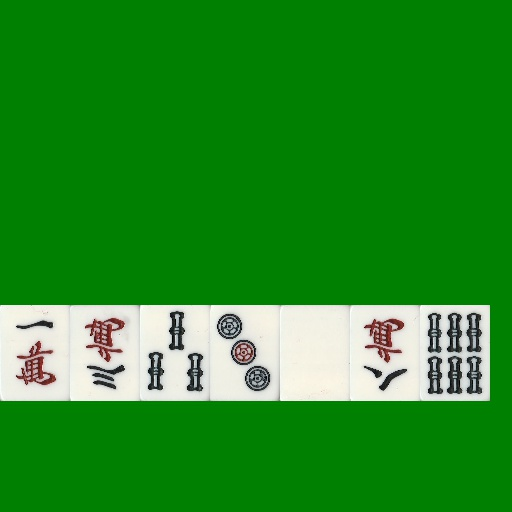1m: (0, 305, 70, 401)
3m: (70, 305, 140, 401)
3p: (210, 305, 280, 401)
3s: (140, 305, 210, 401)
6s: (420, 305, 490, 401)
8m: (350, 305, 420, 401)
white: (280, 305, 350, 401)
